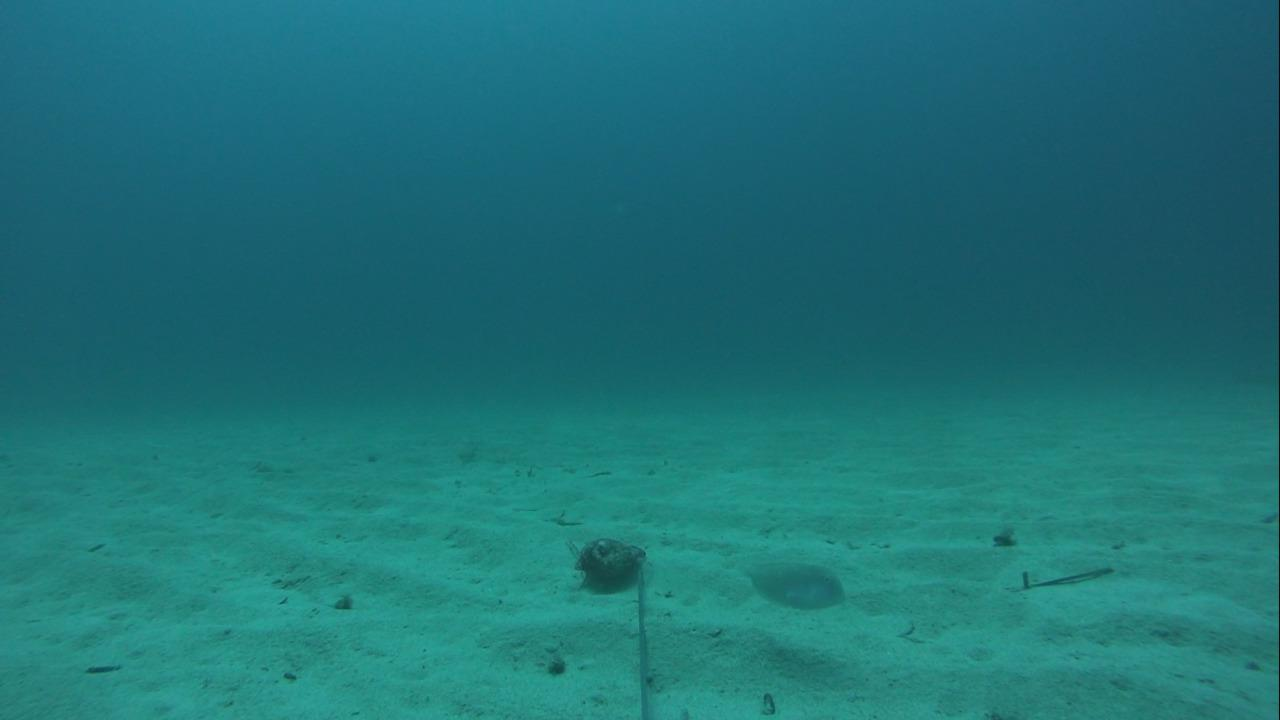raor: (719, 556, 851, 615)
